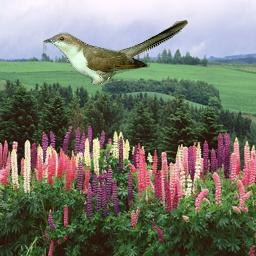Cuckoo: (43, 19, 188, 85)
